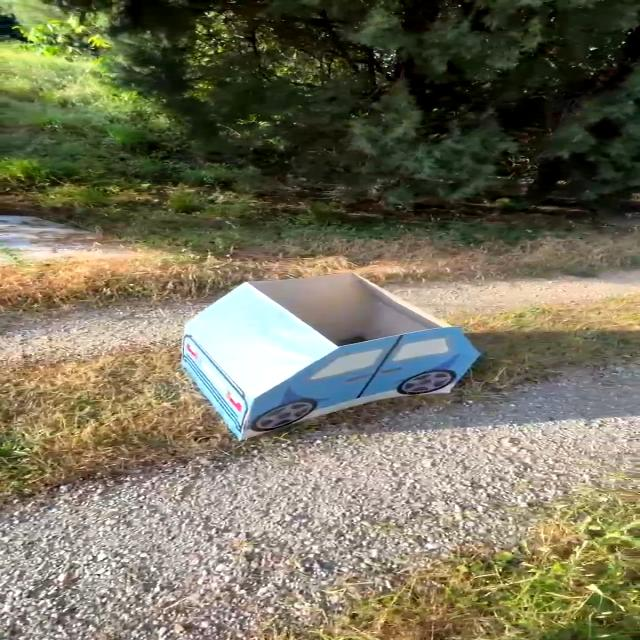blue_car: (139, 261, 518, 455)
